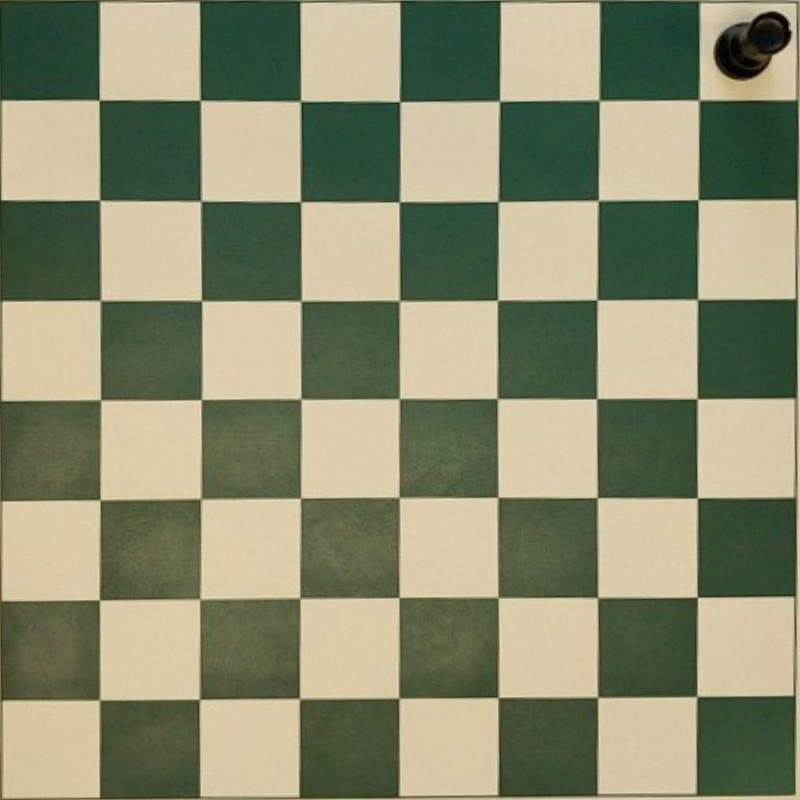black-rook: (716, 11, 791, 79)
